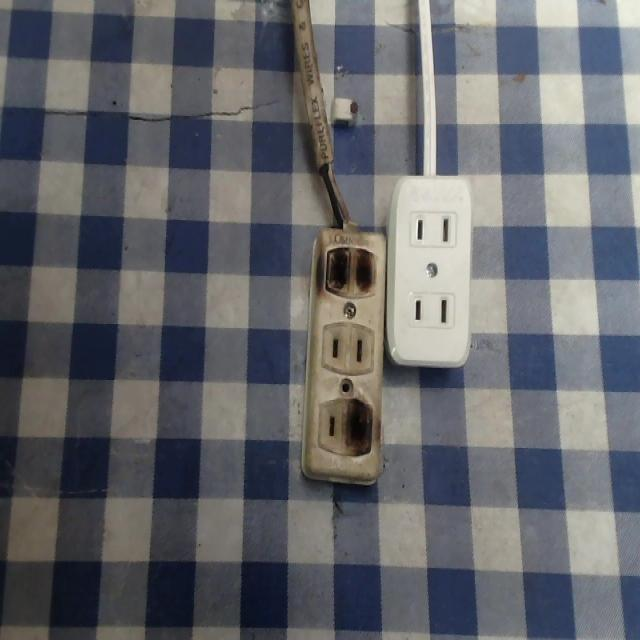-: (324, 242, 378, 298), (339, 395, 376, 456)
